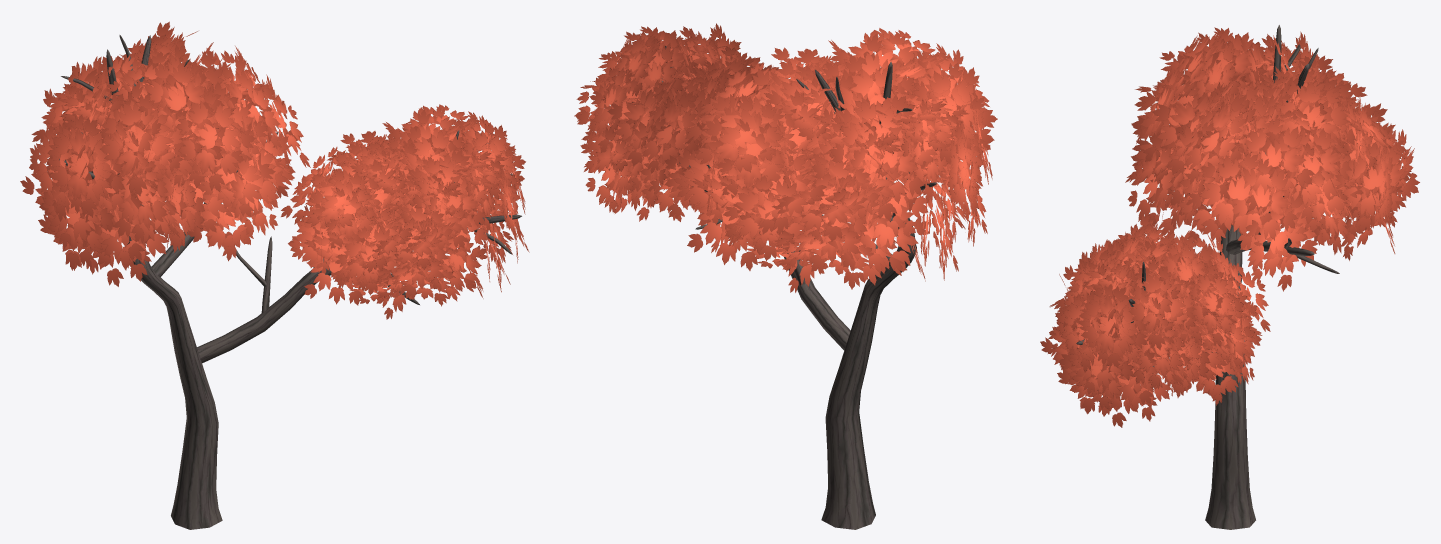
The model's file is MapleTree_1.glb.
3 views of the same model, side by side, from view 1: azimuth 30°, elevation 25°; view 2: azimuth 150°, elevation 25°; view 3: azimuth 270°, elevation 25° (orthographic). The views are drawn at different scales.
Parts seen in each view (by area): view 1: MapleTree_1; view 2: MapleTree_1; view 3: MapleTree_1.
Part boxes in pixels (bbox=[...]): MapleTree_1: bbox=[20, 21, 529, 529]; MapleTree_1: bbox=[574, 23, 997, 529]; MapleTree_1: bbox=[1040, 25, 1419, 529].
Size of the model in its own units: 6.23 by 6.64 by 4.9.
Materials: 2 (2 with a texture image).
